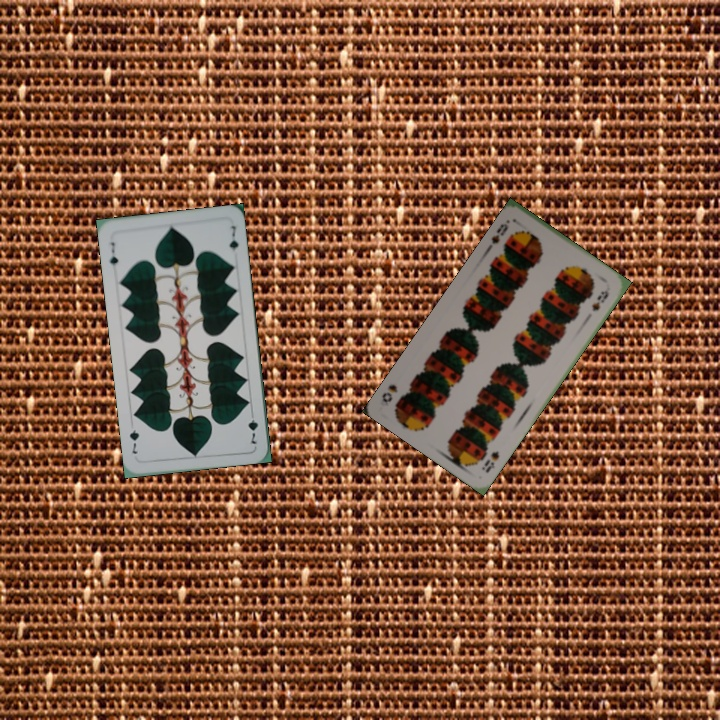G7: (244, 407, 261, 447), (106, 238, 121, 268)
S8: (477, 447, 502, 475), (487, 219, 511, 247)
